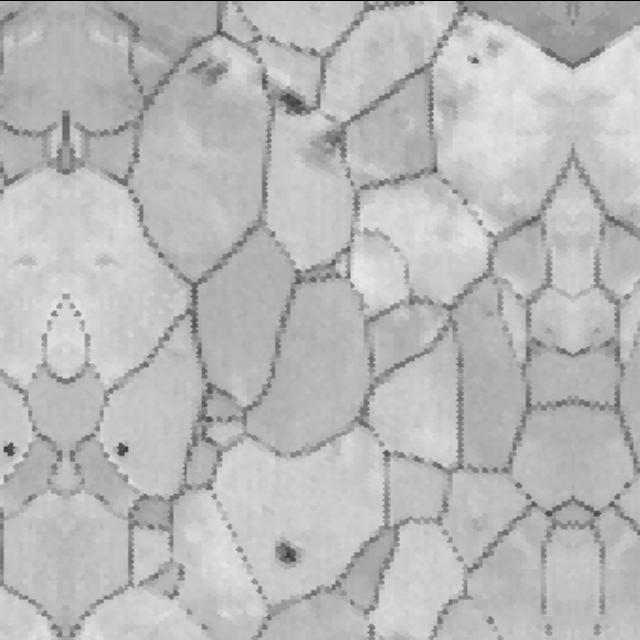good_void: (187, 54, 232, 86), (310, 124, 346, 163), (273, 86, 318, 116), (270, 534, 304, 566), (113, 427, 138, 458), (0, 427, 20, 458), (460, 50, 486, 71)
